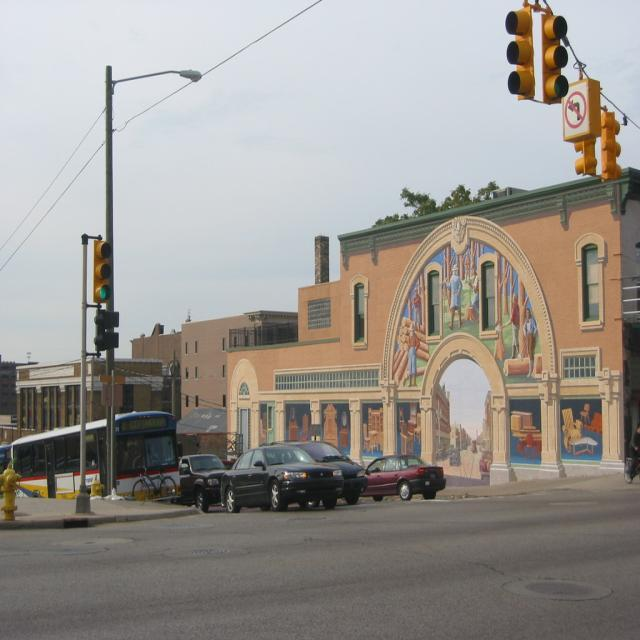traffic light: (534, 6, 574, 104), (498, 6, 534, 104), (90, 241, 115, 305)
